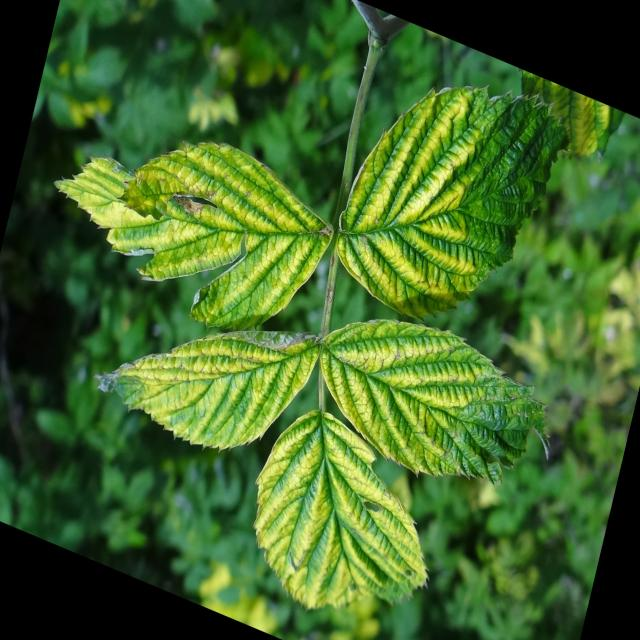Chlorosis: (52, 70, 552, 630)
